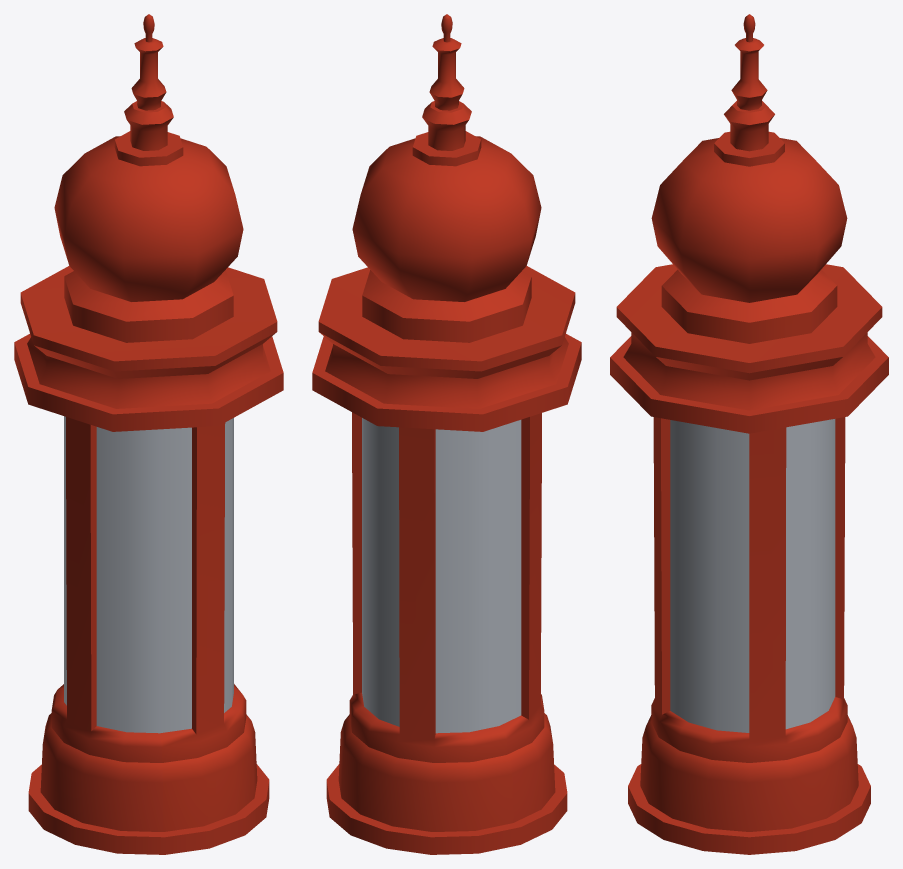
File: Morris Column.fbx
The picture shows the model from 3 angles, left to right: view 1: azimuth 30°, elevation 25°; view 2: azimuth 150°, elevation 25°; view 3: azimuth 270°, elevation 25°; orthographic projection.
Parts seen in each view (by area): view 1: Morris_Column; view 2: Morris_Column; view 3: Morris_Column.
Boxes of the visible parts, x1=… form: Morris_Column: x1=14, y1=14, x2=283, y2=854; Morris_Column: x1=312, y1=14, x2=581, y2=854; Morris_Column: x1=610, y1=14, x2=888, y2=854.
Bounding box in the file's own units: 138 × 430 × 138.
